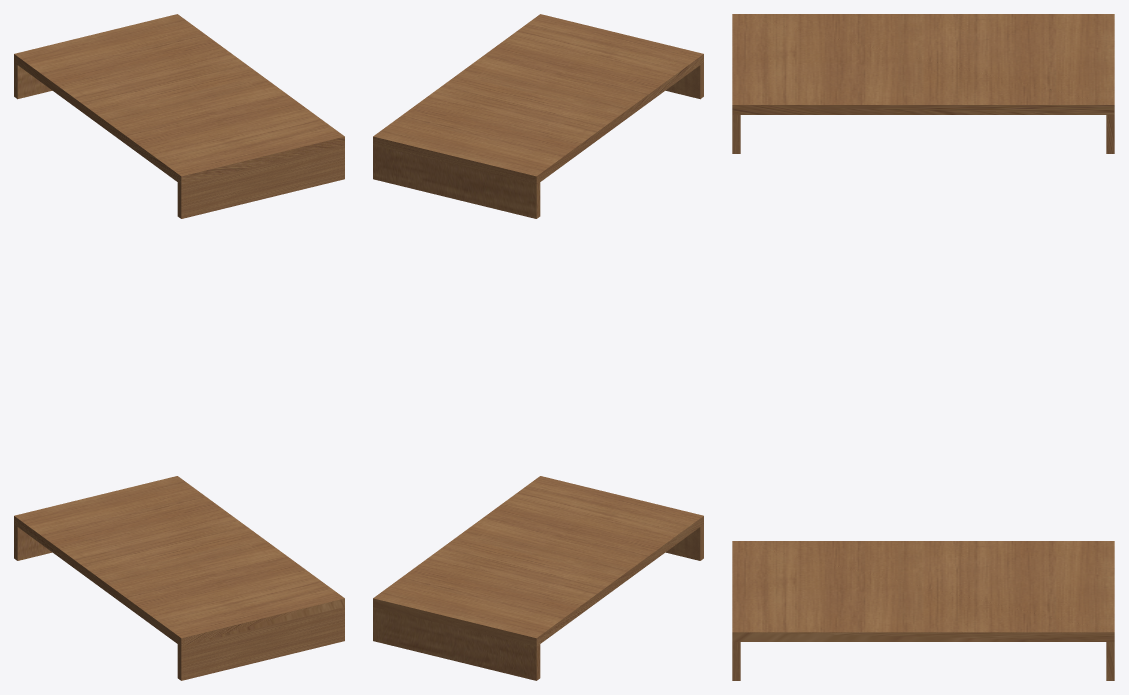
The model's file is Garderobe_dark.gltf.
3 views of the same model, side by side, from view 1: azimuth 30°, elevation 25°; view 2: azimuth 150°, elevation 25°; view 3: azimuth 270°, elevation 25° (orthographic). The views are drawn at different scales.
Visible parts, largest first — view 1: Garderobe; view 2: Garderobe; view 3: Garderobe.
Part boxes in pixels (x1,y1,x2,y2): Garderobe: (14,14,344,680); Garderobe: (373,14,703,680); Garderobe: (732,14,1114,680).
Size of the model in its own units: 0.5004 by 1.47 by 0.8869.
Materials: 1 (1 with a texture image).
